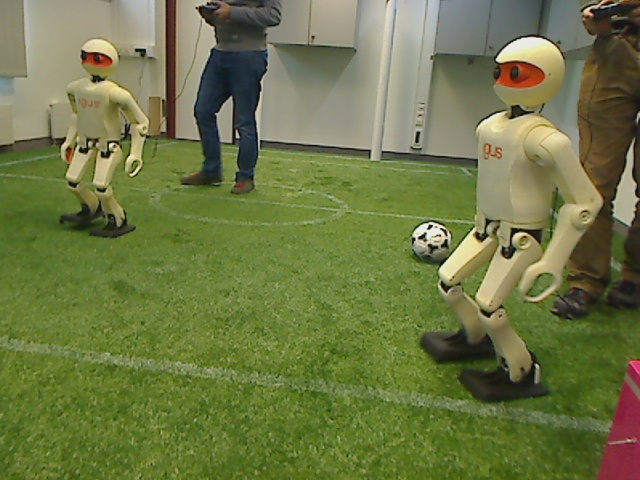ball: (408, 218, 454, 263)
robot: (426, 29, 605, 403), (51, 31, 148, 245)
